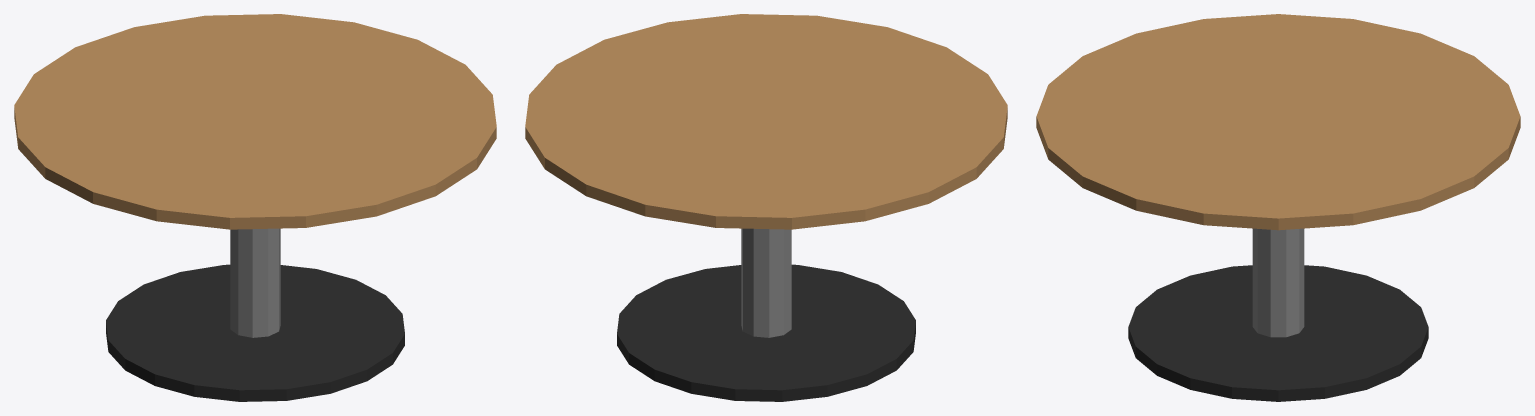
3 views of the same model, side by side, from view 1: azimuth 30°, elevation 25°; view 2: azimuth 150°, elevation 25°; view 3: azimuth 270°, elevation 25° (orthographic).
Visible parts, largest first — view 1: mesa_lounge; view 2: mesa_lounge; view 3: mesa_lounge.
Boxes of the visible parts, left/top/right/bottom form: mesa_lounge: left=14, top=14, right=496, bottom=401; mesa_lounge: left=525, top=14, right=1007, bottom=401; mesa_lounge: left=1036, top=14, right=1520, bottom=401.
Size of the model in its own units: 1.5 by 1.5 by 0.76.
